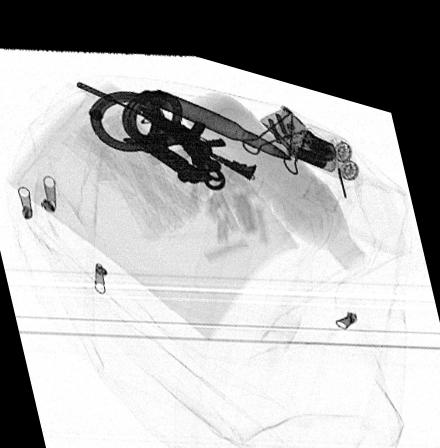Bullet: (150, 82, 292, 142)
Gun: (76, 77, 258, 168)
HandCuffs: (86, 80, 227, 182)
